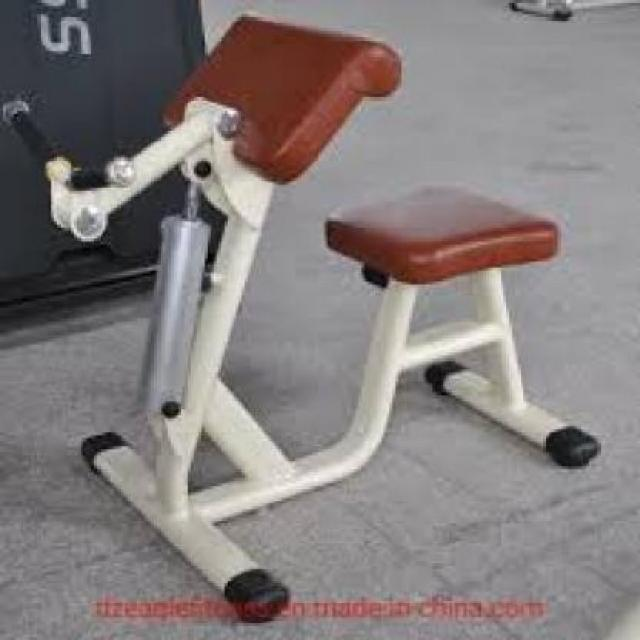arm curl machine: (6, 12, 599, 572)
